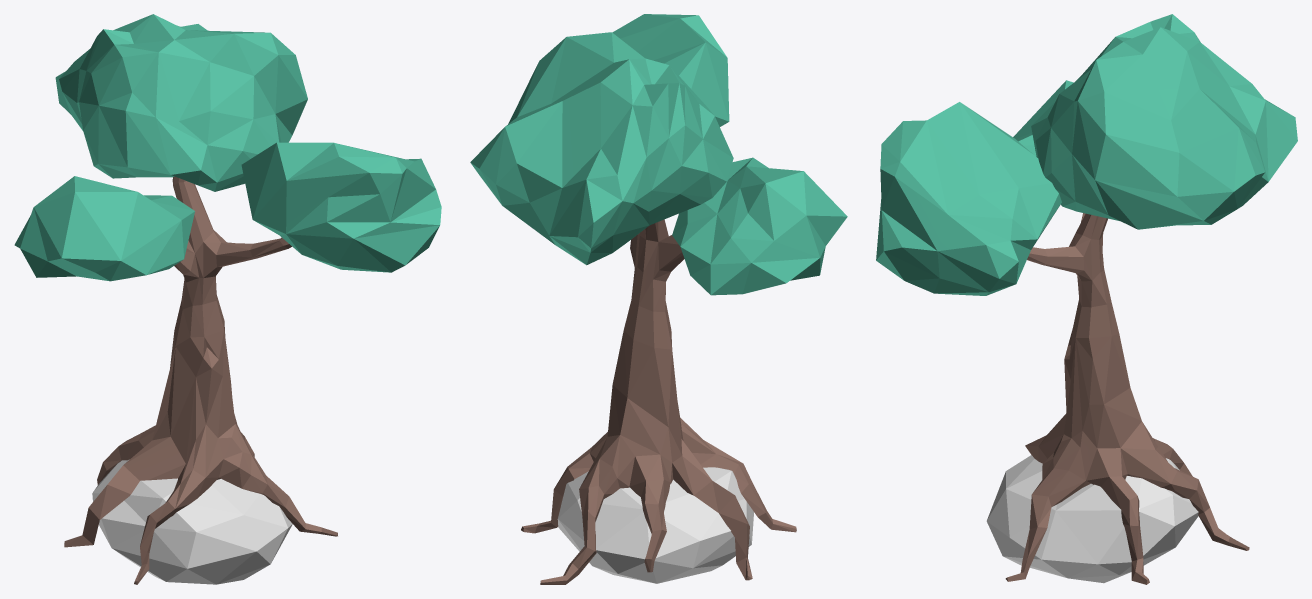
The model's file is fantasy_plant_013.fbx.
The picture shows the model from 3 angles, left to right: view 1: azimuth 30°, elevation 25°; view 2: azimuth 150°, elevation 25°; view 3: azimuth 270°, elevation 25°; orthographic projection.
Visible parts, largest first — view 1: fantasy_plant.013; view 2: fantasy_plant.013; view 3: fantasy_plant.013.
Boxes of the visible parts, x1=… form: fantasy_plant.013: x1=14, y1=14, x2=441, y2=584; fantasy_plant.013: x1=470, y1=14, x2=847, y2=584; fantasy_plant.013: x1=876, y1=14, x2=1297, y2=584.
Size of the model in its own units: 900 by 1301 by 930.
Materials: 1 (1 with a texture image).
